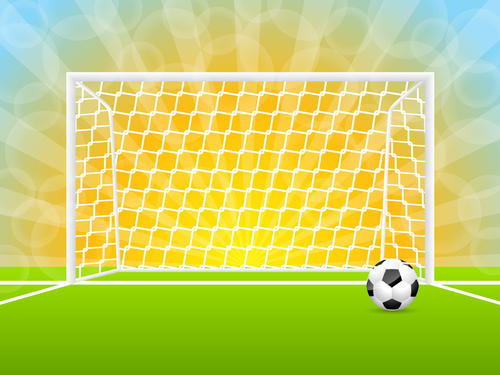football: (360, 256, 423, 316)
